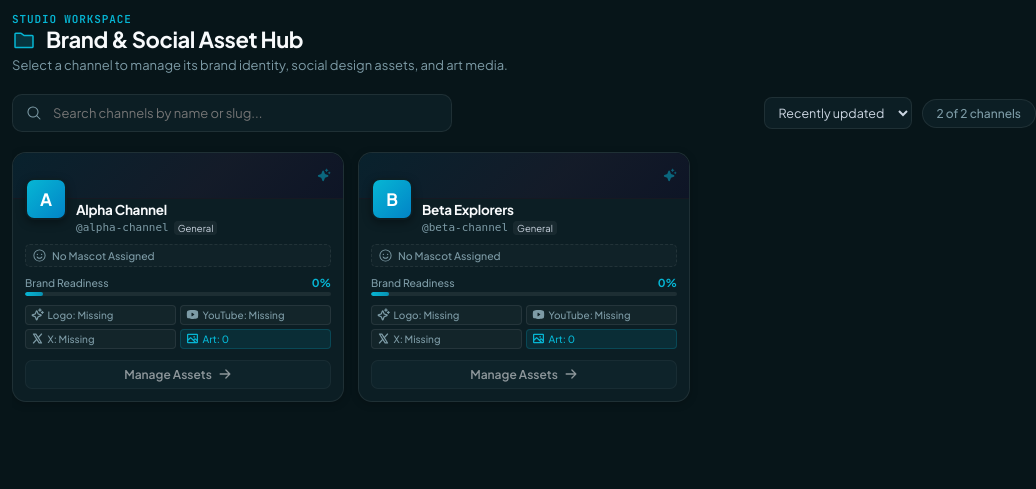
Scenario: BrandAssetsOverview › displays search empty state and restores list when clearing search
This screenshot has width=1036, height=489.
Type "nonexistent-channel" into the field with placeholder "Search channels by name or slug...".
click(232, 113); type("nonexistent-channel")  # box x1=12 y1=94 x2=452 y2=132
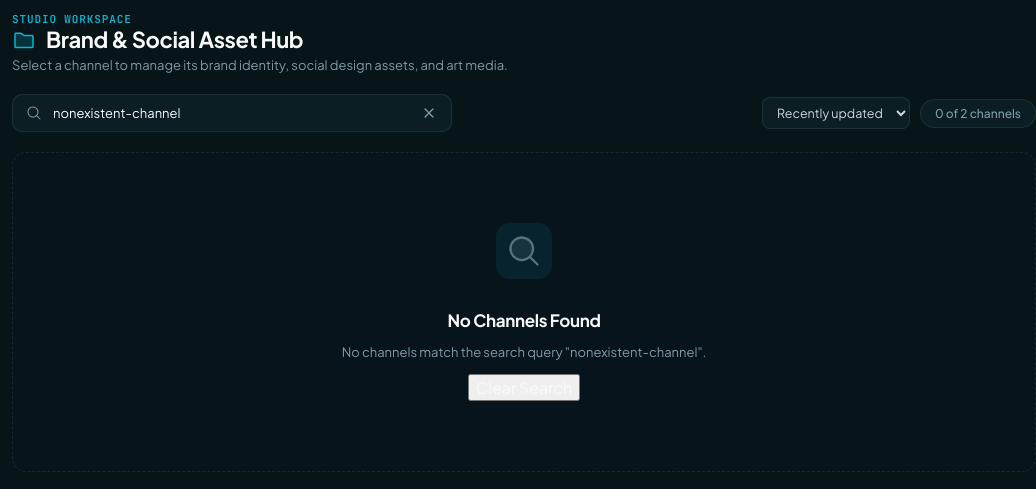
Now the element with test id "empty-search" is shown
Now the text "No channels match the search query \"nonexistent-channel\"." is shown, box x1=342 y1=343 x2=706 y2=362
Click the button "Clear Search".
click(524, 388)  # box x1=468 y1=374 x2=580 y2=401
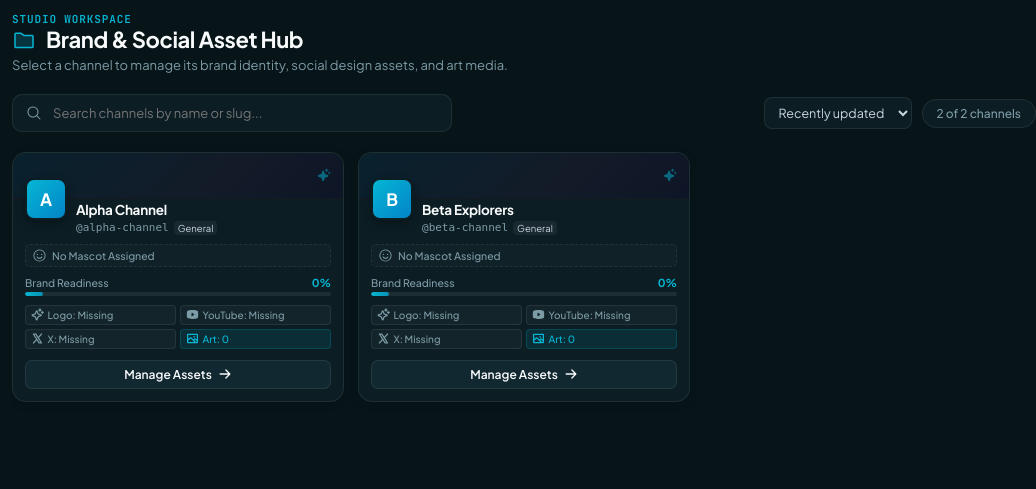
Now the heading "Alpha Channel" is shown, box x1=76 y1=201 x2=167 y2=218
Now the heading "Beta Explorers" is shown, box x1=422 y1=201 x2=514 y2=218
